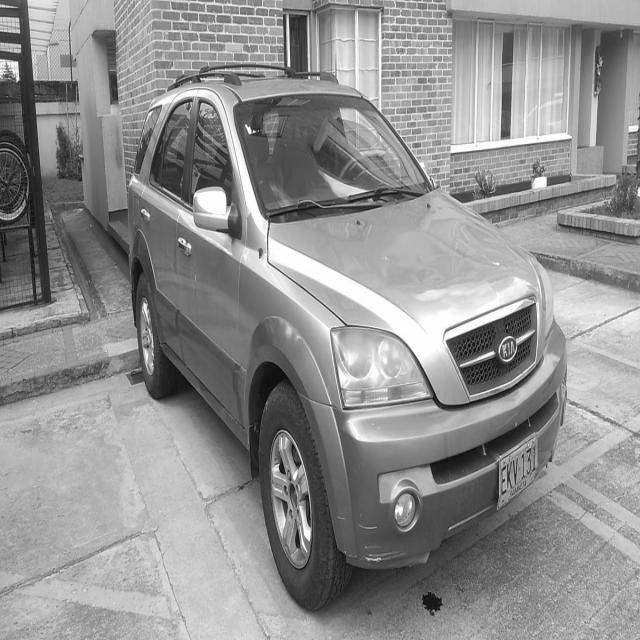plate: (493, 427, 540, 521)
